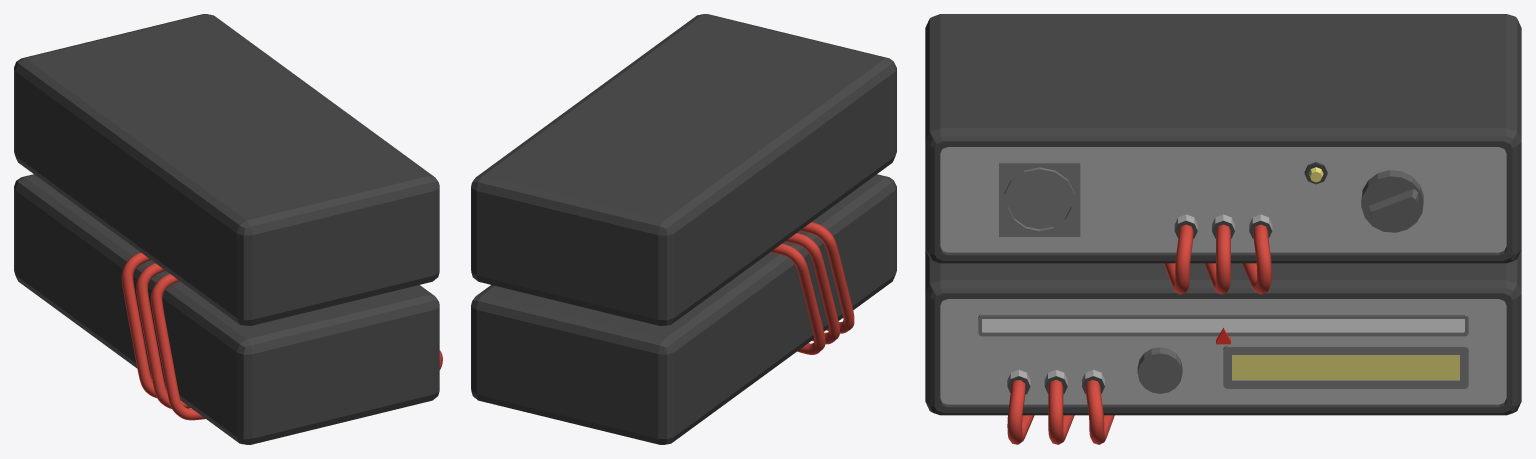
The model's file is Radio.fbx.
3 views of the same model, side by side, from view 1: azimuth 30°, elevation 25°; view 2: azimuth 150°, elevation 25°; view 3: azimuth 270°, elevation 25° (orthographic). The views are drawn at different scales.
Parts seen in each view (by area): view 1: Radio, Wires; view 2: Radio, Wires; view 3: Radio, Wires, ONOffKnob, FrequencyKnob.
Part boxes in pixels (x1,y1,x2,y2): Radio: (14, 14, 439, 444); Wires: (121, 252, 442, 420); Radio: (471, 14, 896, 444); Wires: (770, 222, 854, 354); Radio: (925, 14, 1521, 415); Wires: (1007, 224, 1271, 444); ONOffKnob: (1361, 170, 1423, 232); FrequencyKnob: (1137, 347, 1182, 393).
Size of the model in its own units: 99.16 by 90 by 160.
